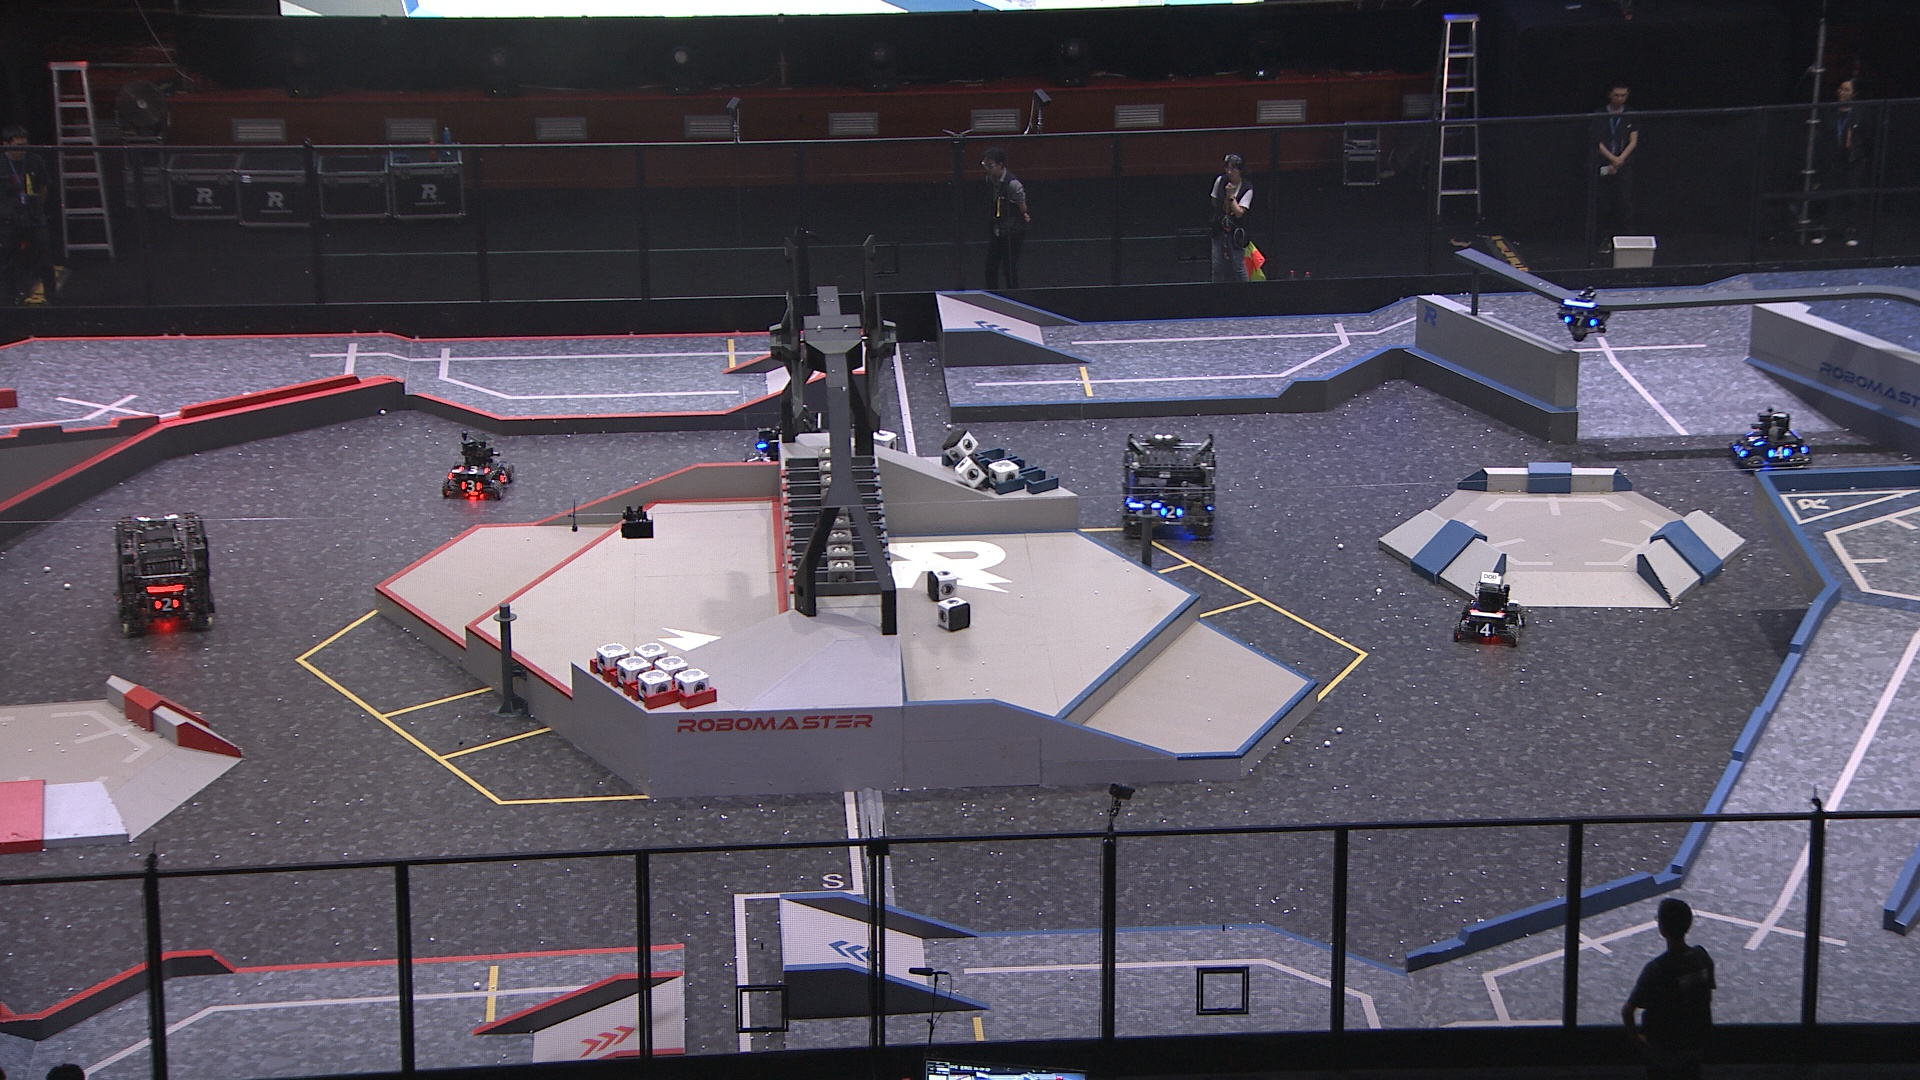armor: (1557, 311, 1598, 328), (458, 476, 481, 493), (152, 597, 182, 611), (462, 462, 491, 475), (1474, 622, 1495, 638), (1768, 444, 1792, 458), (1746, 431, 1764, 447), (1731, 440, 1746, 458), (1159, 506, 1178, 520), (496, 465, 509, 484), (1514, 608, 1523, 629), (746, 455, 764, 463)
car: (107, 513, 212, 638), (1116, 431, 1221, 543), (741, 396, 829, 485), (1447, 570, 1528, 647), (1727, 410, 1812, 479), (438, 429, 514, 501)
watcher: (1553, 284, 1610, 343)
